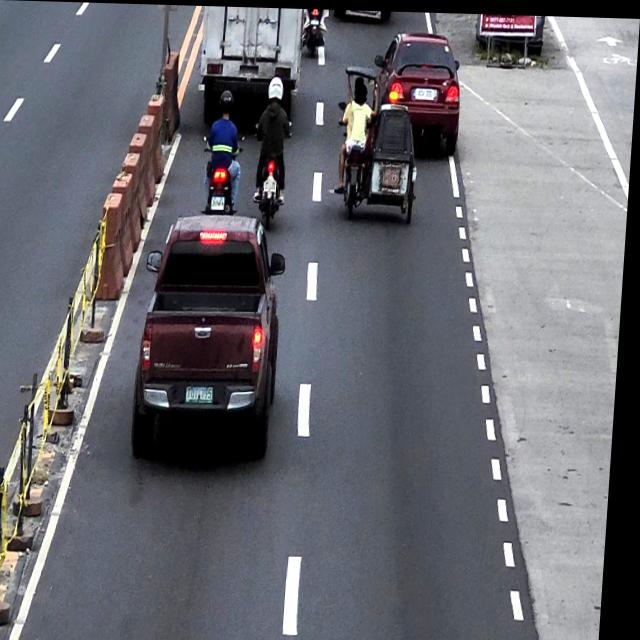Car: (138, 210, 293, 464), (370, 27, 467, 154)
License-Plate: (191, 384, 218, 403), (417, 85, 436, 98), (213, 195, 228, 210)
Motorcycle: (251, 114, 295, 231), (203, 127, 247, 214)
Tricycle: (333, 61, 428, 225)
Truck: (197, 5, 305, 113)
